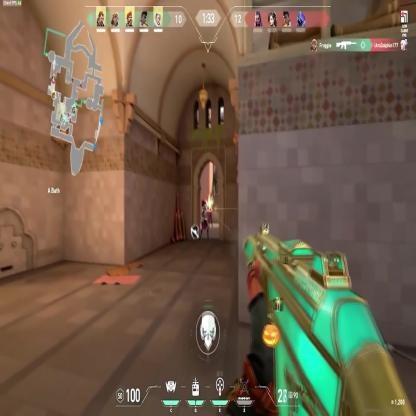enemy: (200, 203, 210, 239), (206, 202, 214, 229)
enemy_head: (202, 201, 206, 207)
